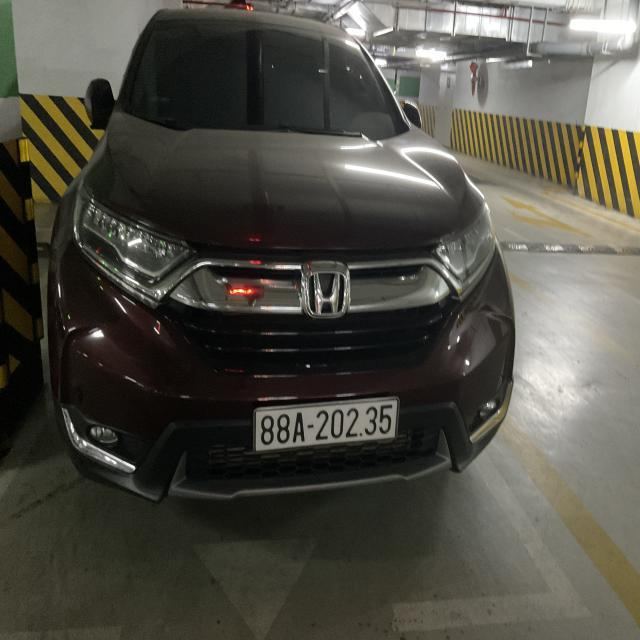license: (251, 395, 399, 452)
